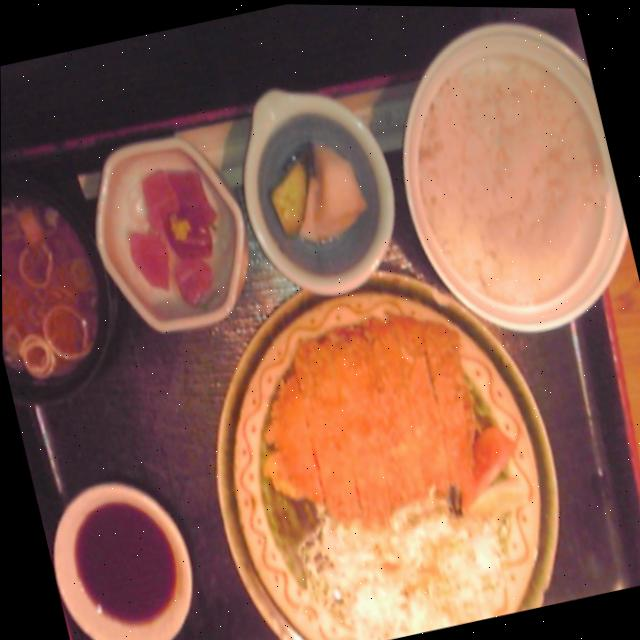汤锅炖物: (1, 159, 136, 408)
米饭主食: (366, 4, 640, 355)
蔬菜料理: (268, 457, 564, 640)
